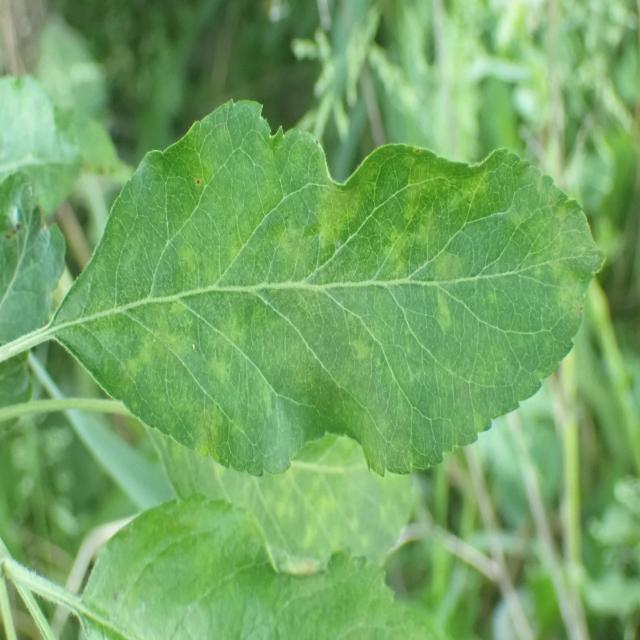Rust: (189, 162, 208, 194)
scab: (57, 142, 603, 436)
